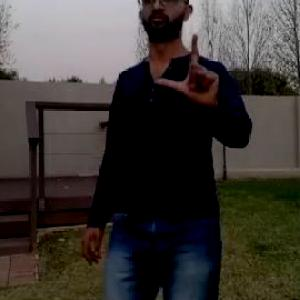land_hand: (156, 30, 224, 110)
